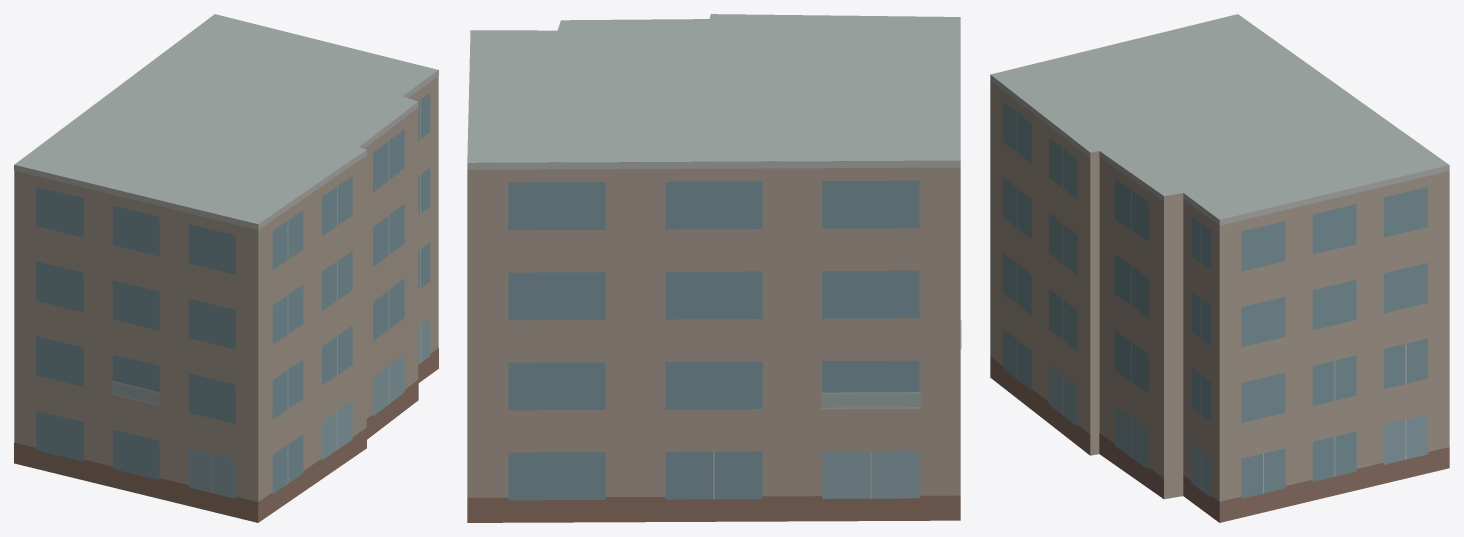
File: survey-upis-32968960.glb
The picture shows the model from 3 angles, left to right: view 1: azimuth 30°, elevation 25°; view 2: azimuth 150°, elevation 25°; view 3: azimuth 270°, elevation 25°; orthographic projection. The views are drawn at different scales.
Visible parts, largest first — view 1: survey-upis-32968960.tmp; view 2: survey-upis-32968960.tmp; view 3: survey-upis-32968960.tmp.
Part boxes in pixels (x1,y1,x2,y2): survey-upis-32968960.tmp: [14, 14, 438, 522]; survey-upis-32968960.tmp: [467, 14, 961, 522]; survey-upis-32968960.tmp: [990, 14, 1449, 522].
Bounding box in the file's own units: 18.29 × 12.55 × 17.24.
